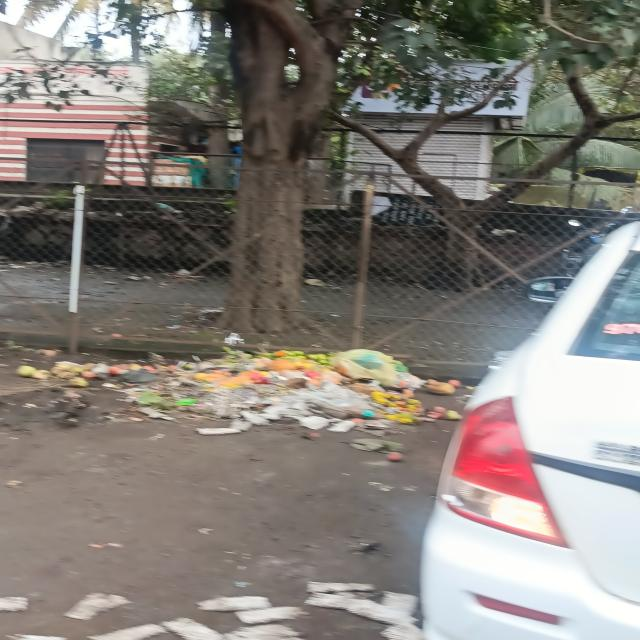garbage: (64, 330, 435, 444)
